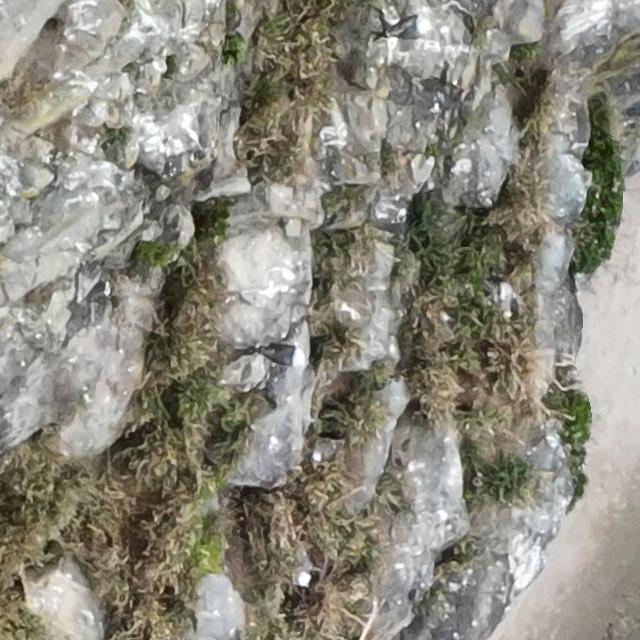umineko: (380, 16, 432, 39), (257, 344, 309, 365), (295, 558, 311, 588)
